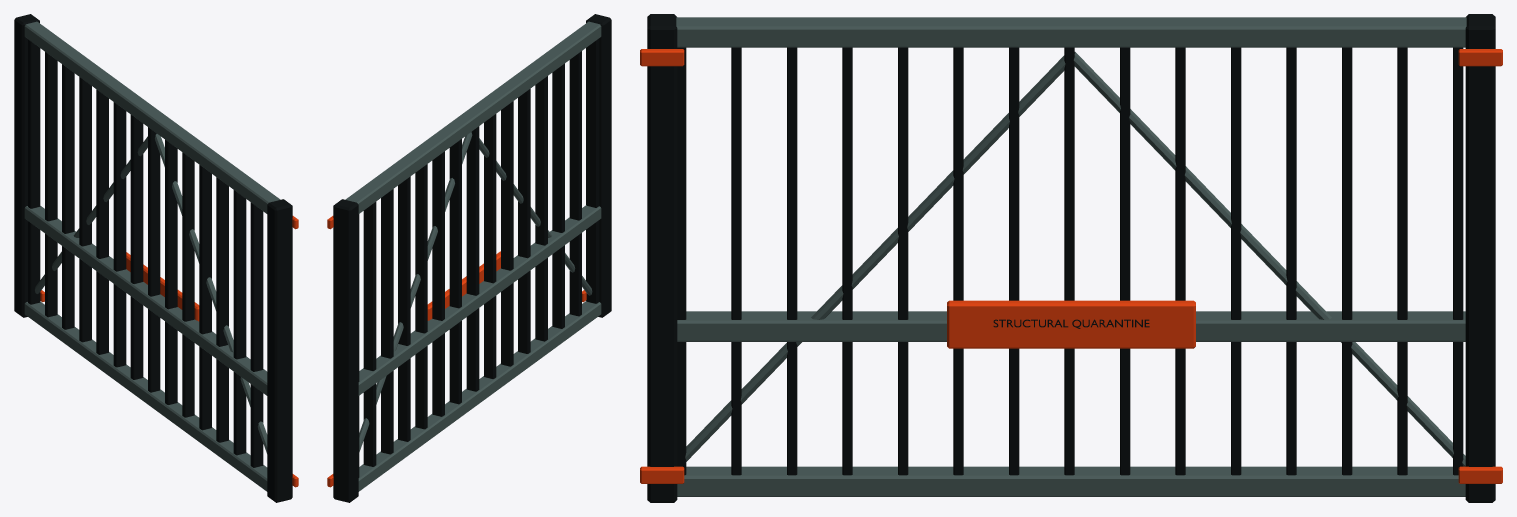
File: SM_MP_Flow_BreachBarrier.fbx
The picture shows the model from 3 angles, left to right: view 1: azimuth 30°, elevation 25°; view 2: azimuth 150°, elevation 25°; view 3: azimuth 270°, elevation 25°; orthographic projection. The views are drawn at different scales.
Parts seen in each view (by area): view 1: SM_MP_Flow_BreachBarrier; view 2: SM_MP_Flow_BreachBarrier; view 3: SM_MP_Flow_BreachBarrier.
Part boxes in pixels (bbox=[...]): SM_MP_Flow_BreachBarrier: bbox=[14, 14, 298, 502]; SM_MP_Flow_BreachBarrier: bbox=[327, 14, 611, 502]; SM_MP_Flow_BreachBarrier: bbox=[640, 14, 1502, 502].
Size of the model in its own units: 42 by 917 by 560.
1 material, 1 textured.
